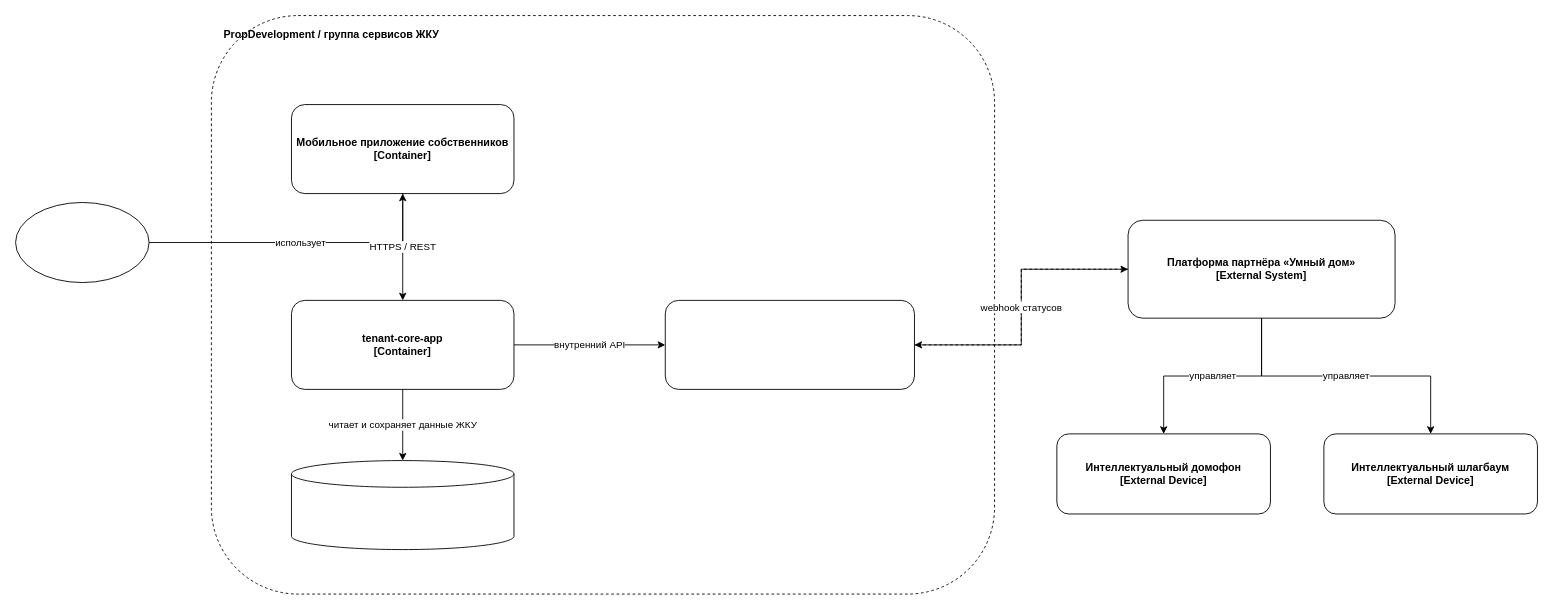
Image size: 1553x610. Some labels were removed from this diagram. Each missing label, with the centre of its shape:
"smart-home-integration-adapter [Container]" goes at point (789, 344).
"tenant-core-db [Database]" goes at point (402, 505).
"Собственник [Person]" goes at point (82, 242).
